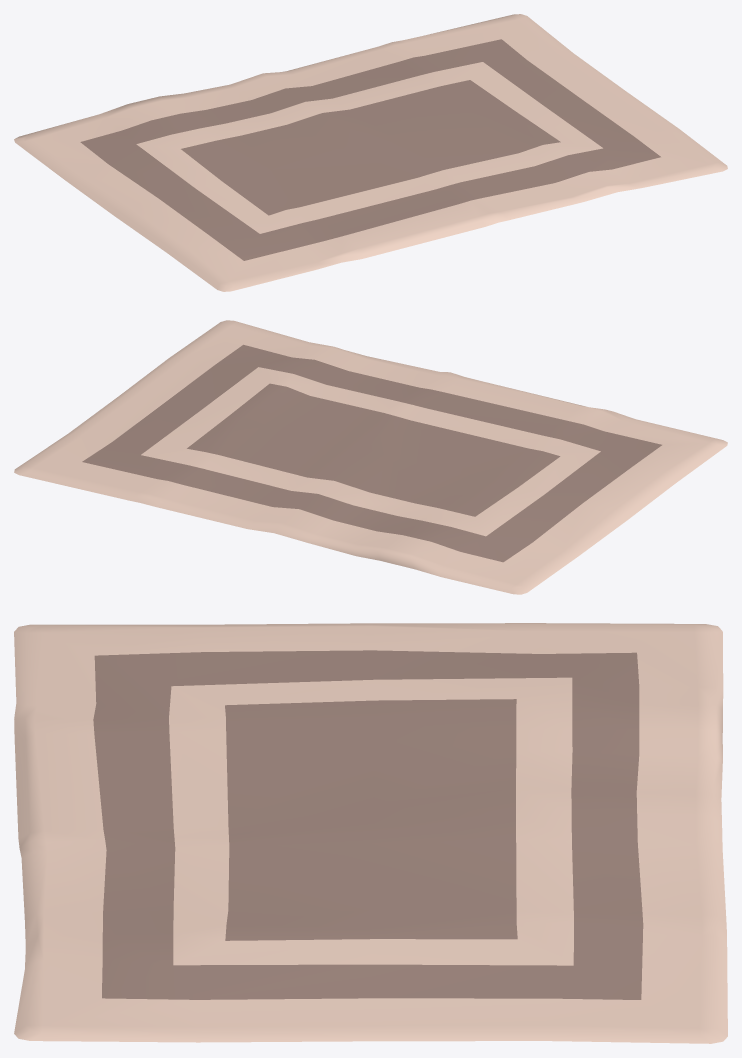
Rendered from carpet_011.fbx.
The picture shows the model from 3 angles, top to bottom: view 1: azimuth 30°, elevation 25°; view 2: azimuth 150°, elevation 25°; view 3: azimuth 270°, elevation 25°; orthographic projection. The views are drawn at different scales.
Visible parts, largest first — view 1: carpet_011; view 2: carpet_011; view 3: carpet_011.
Boxes of the visible parts, left/top/right/bottom form: carpet_011: left=14, top=14, right=727, bottom=291; carpet_011: left=14, top=320, right=727, bottom=594; carpet_011: left=14, top=623, right=727, bottom=1043.
Size of the model in its own units: 458 by 328 by 8.7.
